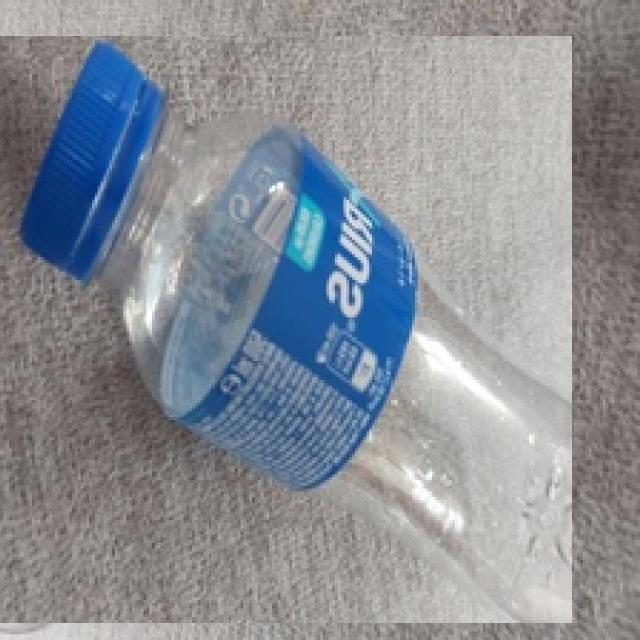bottle: (0, 36, 572, 623)
cap: (23, 39, 157, 284)
label: (176, 114, 434, 508)
